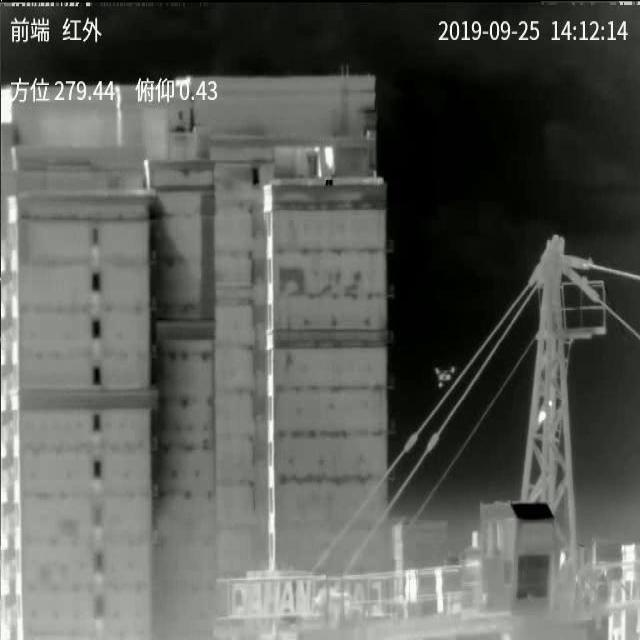drone: (435, 367, 456, 387)
